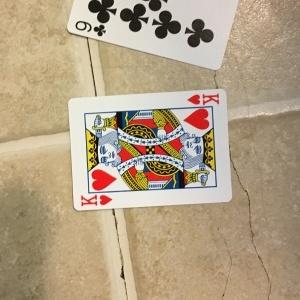card: (67, 89, 232, 211)
